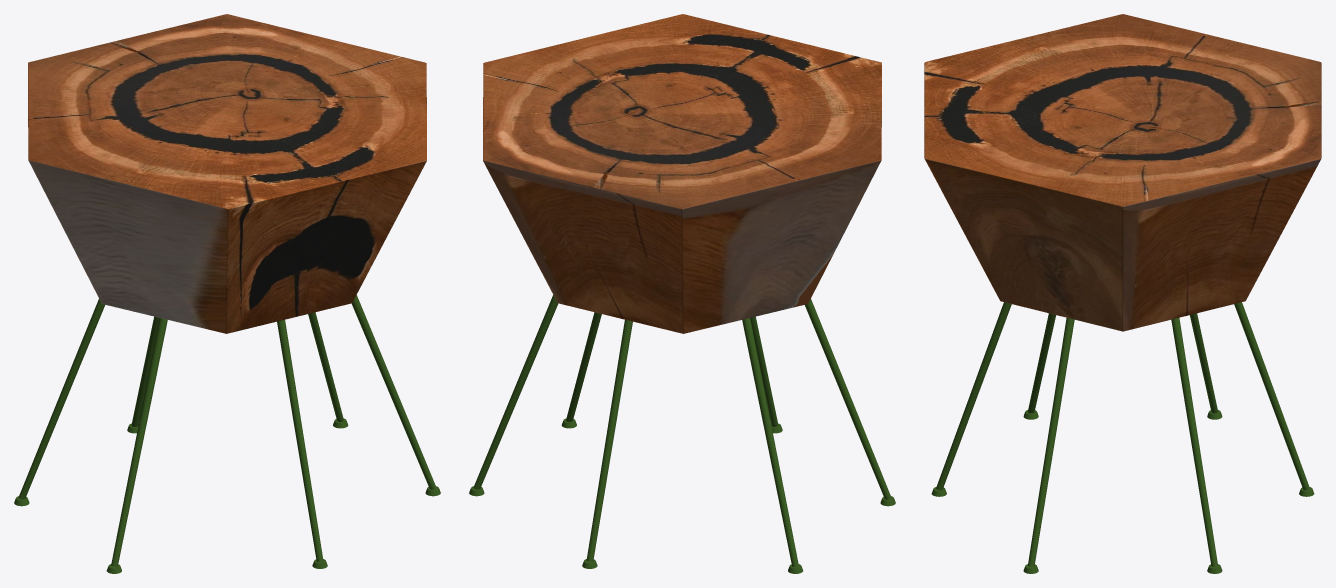
File: neptun-v2.glb
The picture shows the model from 3 angles, left to right: view 1: azimuth 30°, elevation 25°; view 2: azimuth 150°, elevation 25°; view 3: azimuth 270°, elevation 25°; orthographic projection.
Parts seen in each view (by area): view 1: NEPTUN solid faceted timber, Green splayed steel rod 04, Green splayed steel rod 05, Green splayed steel rod 03, Green splayed steel rod 06, Green splayed steel rod 01, Green splayed steel rod 02; view 2: NEPTUN solid faceted timber, Green splayed steel rod 03, Green splayed steel rod 02, Green splayed steel rod 04, Green splayed steel rod 01, Green splayed steel rod 06, Green splayed steel rod 05; view 3: NEPTUN solid faceted timber, Green splayed steel rod 01, Green splayed steel rod 06, Green splayed steel rod 02, Green splayed steel rod 05, Green splayed steel rod 03, Green splayed steel rod 04.
Boxes of the visible parts, left/top/right/bottom form: NEPTUN solid faceted timber: left=28, top=14, right=426, bottom=333; Green splayed steel rod 04: left=111, top=318, right=167, bottom=566; Green splayed steel rod 05: left=277, top=319, right=323, bottom=561; Green splayed steel rod 03: left=18, top=299, right=104, bottom=499; Green splayed steel rod 06: left=351, top=295, right=436, bottom=489; Green splayed steel rod 01: left=308, top=312, right=343, bottom=421; Green splayed steel rod 02: left=131, top=316, right=159, bottom=426; NEPTUN solid faceted timber: left=483, top=14, right=881, bottom=333; Green splayed steel rod 03: left=742, top=318, right=798, bottom=566; Green splayed steel rod 02: left=586, top=319, right=632, bottom=561; Green splayed steel rod 04: left=805, top=299, right=891, bottom=499; Green splayed steel rod 01: left=473, top=295, right=558, bottom=489; Green splayed steel rod 06: left=566, top=312, right=601, bottom=421; Green splayed steel rod 05: left=750, top=316, right=778, bottom=426; NEPTUN solid faceted timber: left=924, top=14, right=1321, bottom=331; Green splayed steel rod 01: left=1171, top=318, right=1217, bottom=566; Green splayed steel rod 06: left=1028, top=318, right=1074, bottom=566; Green splayed steel rod 02: left=1234, top=302, right=1309, bottom=490; Green splayed steel rod 05: left=936, top=302, right=1011, bottom=490; Green splayed steel rod 03: left=1190, top=313, right=1217, bottom=413; Green splayed steel rod 04: left=1028, top=313, right=1055, bottom=413.
Bounding box in the file's own units: 0.5385 × 0.5 × 0.4691.
8 materials, 7 textured.
